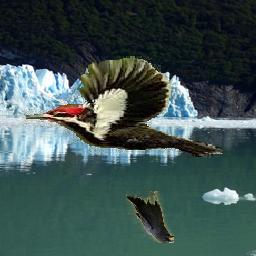Crow: (126, 191, 174, 243)
Woodpecker: (23, 56, 224, 158)
